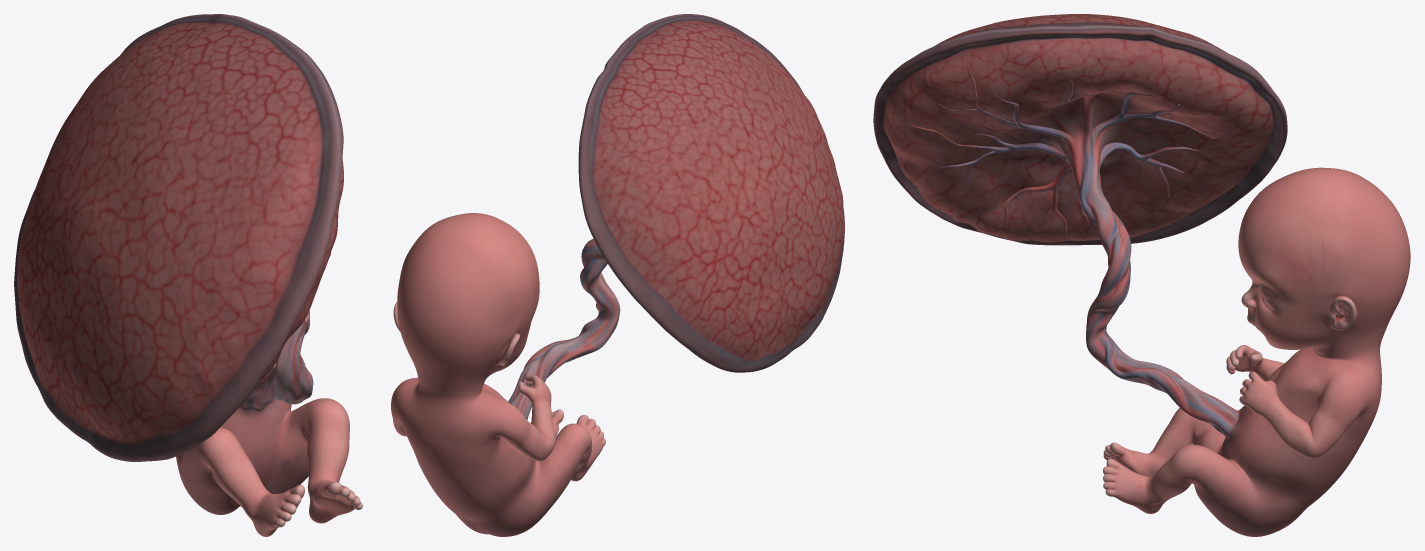
Rendered from stade-05.glb.
The picture shows the model from 3 angles, left to right: view 1: azimuth 30°, elevation 25°; view 2: azimuth 150°, elevation 25°; view 3: azimuth 270°, elevation 25°; orthographic projection. The views are drawn at different scales.
Size of the model in its own units: 1.27 by 1.86 by 1.9.
Materials: 1 (1 with a texture image).
